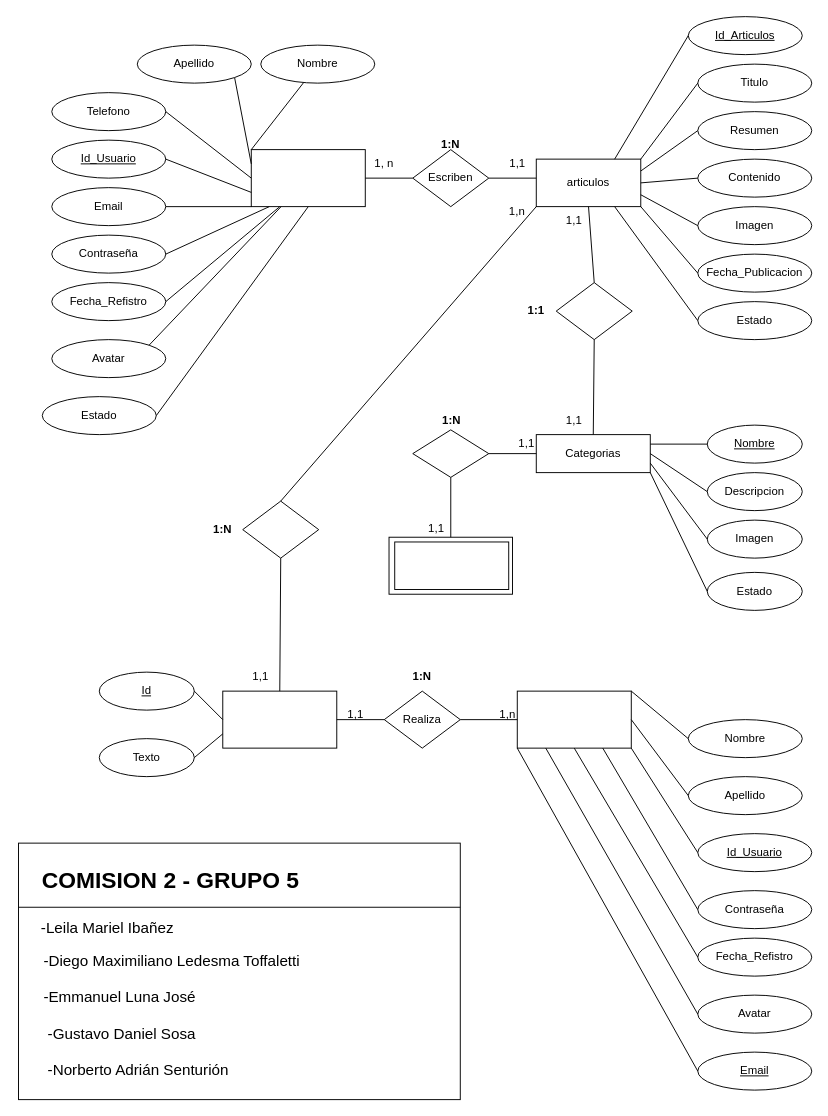
This 828x1116 diagram has some shape labels left out. The shapes that lost their labels are listed below. From the top down, each one's box as (x1, y1, x2, y2) in pixels, then its label:
(250, 149, 365, 207): Colaboradores
(555, 282, 632, 340): Tienen
(412, 429, 489, 477): Contiene
(242, 500, 319, 558): Recibe
(394, 541, 509, 589): Sub_Categorias
(222, 690, 337, 748): comentarios
(516, 690, 631, 748): Publico_Registrado
